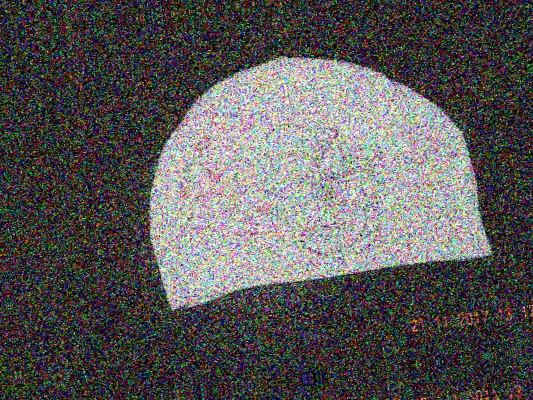Hat: (91, 1, 527, 346)
